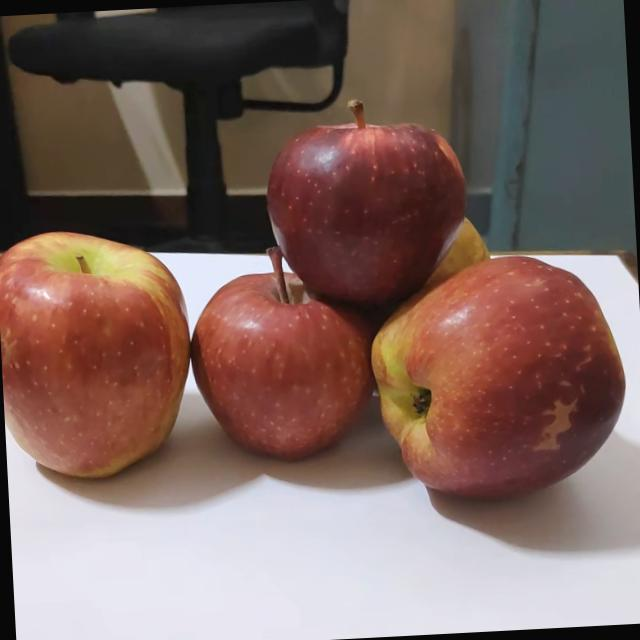apple: (366, 247, 638, 510), (0, 221, 201, 489), (258, 90, 480, 316), (184, 237, 381, 475), (402, 209, 498, 293)
